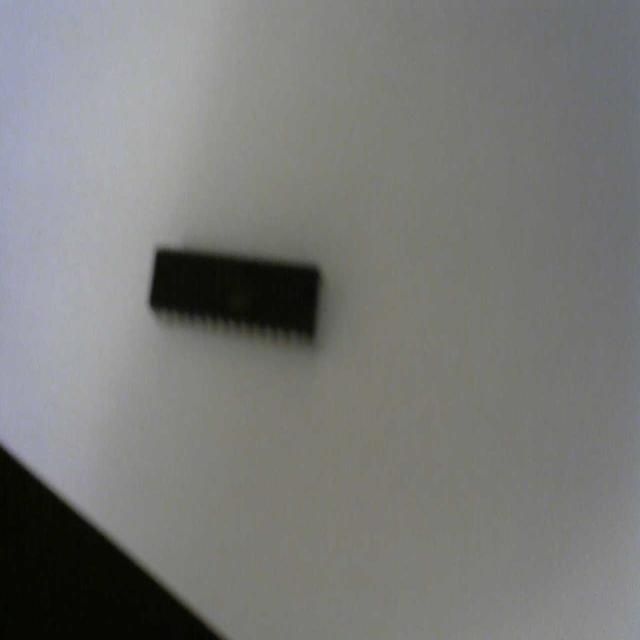atmega: (146, 239, 324, 350)
